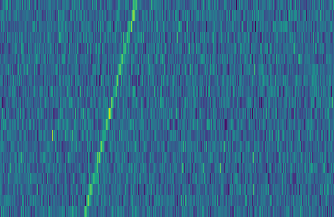signal: (78, 0, 141, 217)
